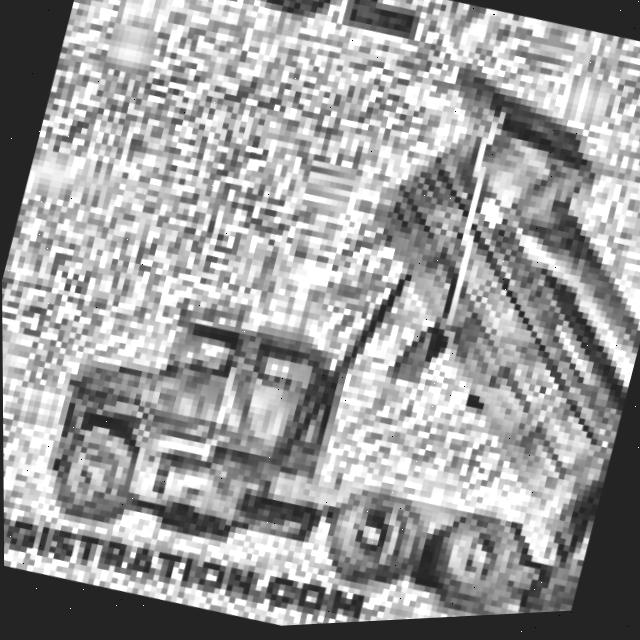dump_truck: (23, 0, 640, 639)
